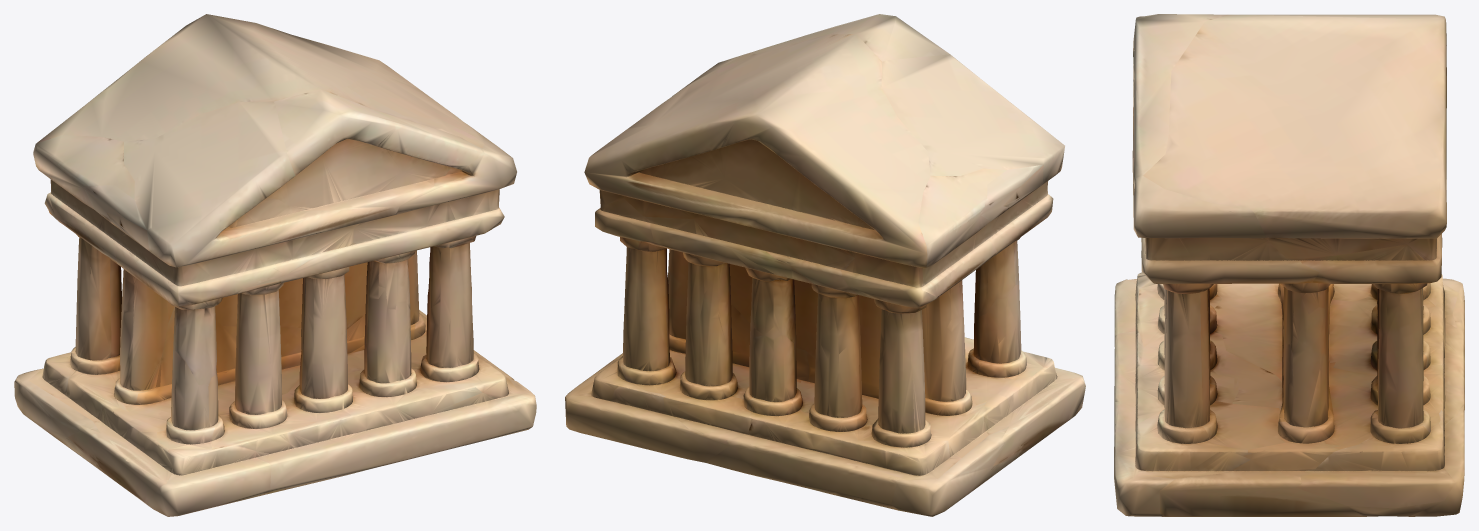
The model's file is parthenon_pbr.glb.
3 views of the same model, side by side, from view 1: azimuth 30°, elevation 25°; view 2: azimuth 150°, elevation 25°; view 3: azimuth 270°, elevation 25° (orthographic). The views are drawn at different scales.
Visible parts, largest first — view 1: model.011; view 2: model.011; view 3: model.011.
Part boxes in pixels (bbox=[...]): model.011: bbox=[14, 14, 536, 516]; model.011: bbox=[565, 14, 1085, 516]; model.011: bbox=[1114, 14, 1464, 516].
Size of the model in its own units: 1.66 by 1.51 by 1.2.
Materials: 1 (1 with a texture image).
